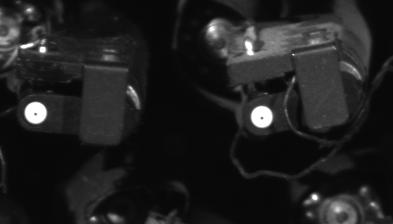fiber: (21, 99, 53, 129), (246, 103, 279, 131)
